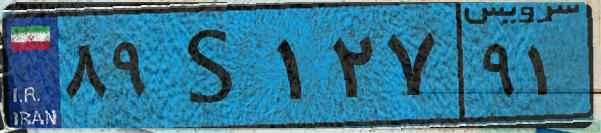1: (270, 28, 330, 110), (525, 38, 570, 115)
2: (330, 28, 385, 110)
7: (385, 28, 445, 110)
8: (57, 26, 110, 100)
9: (475, 38, 525, 113), (110, 28, 158, 98)
S: (158, 12, 270, 120)
